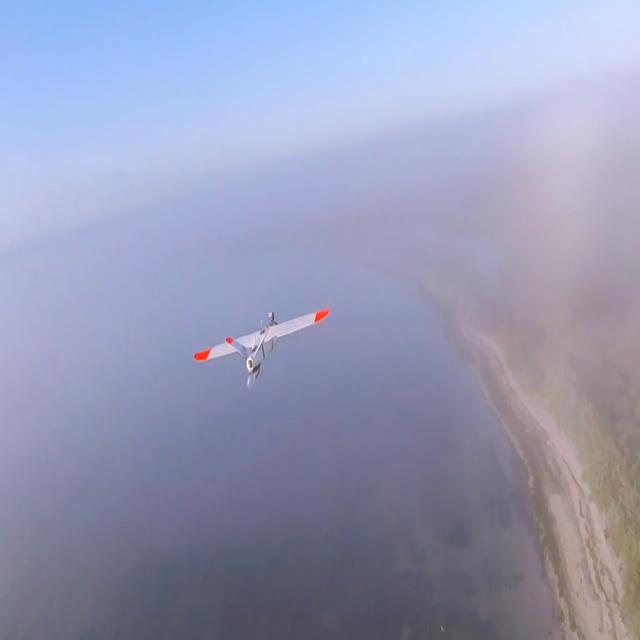iha: (192, 337, 321, 355)
